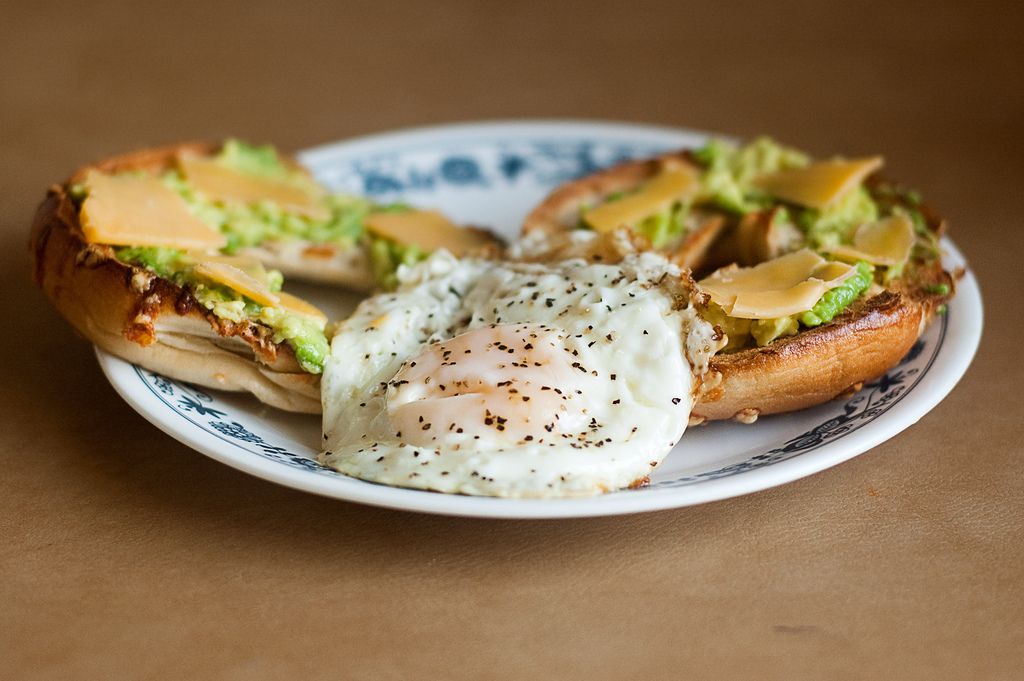fried egg: (349, 273, 674, 491)
slice of bread: (595, 158, 936, 393), (24, 163, 371, 387)
